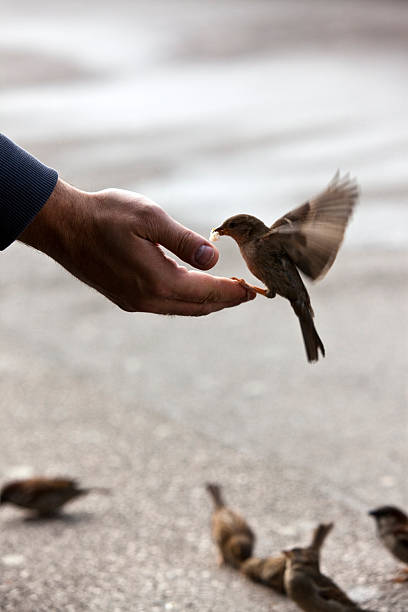bird: (194, 155, 361, 374)
